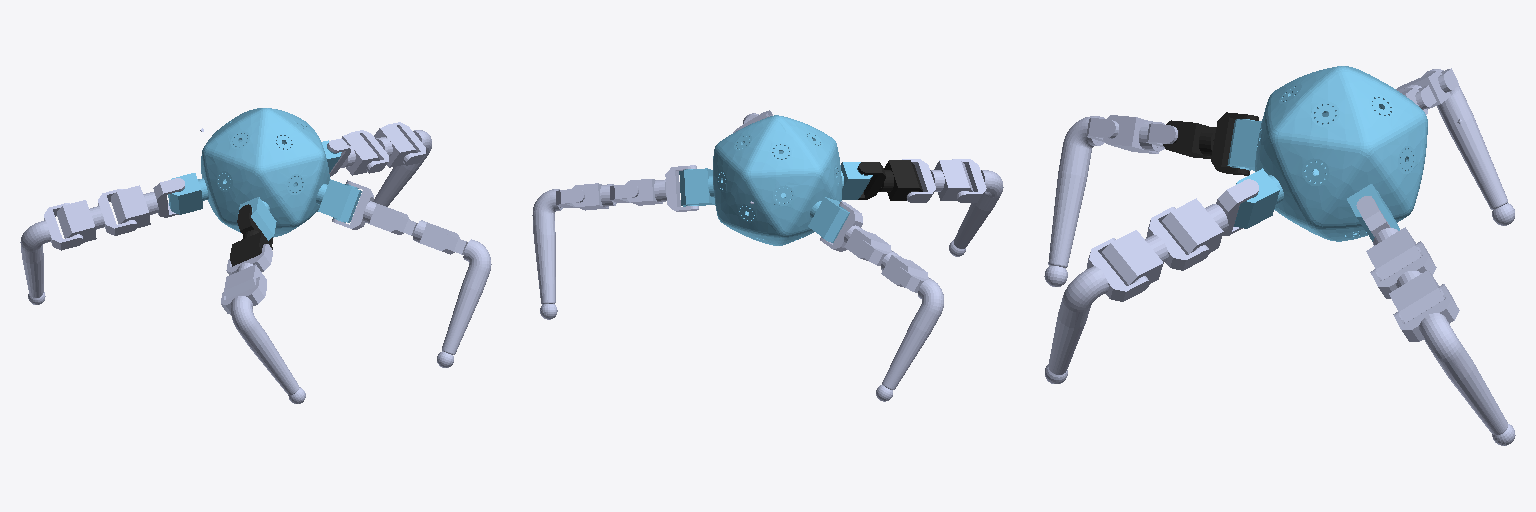
robot.urdf — V800_cam:
<?xml version="1.0" encoding="utf-8"?>
<!-- This URDF was automatically created by SolidWorks to URDF Exporter! Originally created by [author] ([email redacted]) 
     Commit Version: 1.6.0-1-g15f4949  Build Version: 1.6.7594.29634
     For more information, please see http://wiki.ros.org/sw_urdf_exporter -->
<robot
  name="V800_cam">
  <link
    name="body">
    <inertial>
      <origin
        xyz="-9.54880772594721E-07 0.0464116058279854 0.0121268540557259"
        rpy="0 0 0" />
      <mass
        value="1.03" />
      <inertia
        ixx="0.00246800158075418"
        ixy="1.75628213091201E-08"
        ixz="1.38332715719944E-08"
        iyy="0.00246847726958773"
        iyz="-2.52422596482019E-06"
        izz="0.00247970018962611" />
    </inertial>
    <visual>
      <origin
        xyz="0 0 0"
        rpy="0 0 0" />
      <geometry>
        <mesh
          filename="package://V800_cam/meshes/body.STL" />
      </geometry>
      <material
        name="">
        <color
          rgba="0.53 0.81 0.95 1" />
      </material>
    </visual>
    <collision>
      <origin
        xyz="0 0 0"
        rpy="0 0 0" />
      <geometry>
        <mesh
          filename="package://V800_cam/meshes/body.STL" />
      </geometry>
    </collision>
  </link>
  <link
    name="00">
    <inertial>
      <origin
        xyz="-3.63001309788835E-07 -3.63001309774957E-07 0.0577248764406495"
        rpy="0 0 0" />
      <mass
        value="0.085" />
      <inertia
        ixx="7.62606139414576E-05"
        ixy="1.36848222674851E-14"
        ixz="-6.41822721035026E-10"
        iyy="7.58096552667325E-05"
        iyz="-6.41822721058743E-10"
        izz="3.22965690401587E-05" />
    </inertial>
    <visual>
      <origin
        xyz="0 0 0"
        rpy="0 0 0" />
      <geometry>
        <mesh
          filename="package://V800_cam/meshes/00.STL" />
      </geometry>
      <material
        name="">
        <color
          rgba="0.2 0.2 0.2 1" />
      </material>
    </visual>
    <collision>
      <origin
        xyz="0 0 0"
        rpy="0 0 0" />
      <geometry>
        <mesh
          filename="package://V800_cam/meshes/00.STL" />
      </geometry>
    </collision>
  </link>
  <joint
    name="body_00"
    type="revolute">
    <origin
      xyz="-0.0747135099226025 -0.102834290944804 0.0313999218452649"
      rpy="1.93566015490837 1.01722196789785 -0.314159265358987" />
    <parent
      link="body" />
    <child
      link="00" />
    <axis
      xyz="1 0 0" />
    <limit
      lower="-4"
      upper="4"
      effort="2"
      velocity="0.2094396" />
  </joint>
  <link
    name="01">
    <inertial>
      <origin
        xyz="-1.45200523903044E-06 -1.45200523907207E-06 0.0577259654445788"
        rpy="0 0 0" />
      <mass
        value="0.085" />
      <inertia
        ixx="6.67941659320179E-05"
        ixy="2.18957247335804E-13"
        ixz="-2.79364977318897E-09"
        iyy="8.52661387999373E-05"
        iyz="-2.79364977317415E-09"
        izz="3.2296568629614E-05" />
    </inertial>
    <visual>
      <origin
        xyz="0 0 0"
        rpy="0 0 0" />
      <geometry>
        <mesh
          filename="package://V800_cam/meshes/01.STL" />
      </geometry>
      <material
        name="">
        <color
          rgba="0.792156862745098 0.819607843137255 0.933333333333333 1" />
      </material>
    </visual>
    <collision>
      <origin
        xyz="0 0 0"
        rpy="0 0 0" />
      <geometry>
        <mesh
          filename="package://V800_cam/meshes/01.STL" />
      </geometry>
    </collision>
  </link>
  <joint
    name="00_01"
    type="revolute">
    <origin
      xyz="0 0 0.0812000000000001"
      rpy="0 0 1.5707963267949" />
    <parent
      link="00" />
    <child
      link="01" />
    <axis
      xyz="1 0 0" />
    <limit
      lower="-4"
      upper="4"
      effort="2"
      velocity="0.2094396" />
  </joint>
  <link
    name="02">
    <inertial>
      <origin
        xyz="-4.16333634234434E-17 -0.0532160764699447 0.0531179899870654"
        rpy="0 0 0" />
      <mass
        value="0.07" />
      <inertia
        ixx="0.000416559633615451"
        ixy="6.26804380968182E-20"
        ixz="6.7762635780344E-20"
        iyy="5.44190175587168E-05"
        iyz="6.08030153794327E-05"
        izz="0.000394411456477928" />
    </inertial>
    <visual>
      <origin
        xyz="0 0 0"
        rpy="0 0 0" />
      <geometry>
        <mesh
          filename="package://V800_cam/meshes/02.STL" />
      </geometry>
      <material
        name="">
        <color
          rgba="0.792156862745098 0.819607843137255 0.933333333333333 1" />
      </material>
    </visual>
    <collision>
      <origin
        xyz="0 0 0"
        rpy="0 0 0" />
      <geometry>
        <mesh
          filename="package://V800_cam/meshes/02.STL" />
      </geometry>
    </collision>
  </link>
  <joint
    name="01_02"
    type="revolute">
    <origin
      xyz="0 0 0.0811999999999999"
      rpy="0 0 0" />
    <parent
      link="01" />
    <child
      link="02" />
    <axis
      xyz="1 0 0" />
    <limit
      lower="-4"
      upper="4"
      effort="2"
      velocity="0.2094396" />
  </joint>
  <link
    name="10">
    <inertial>
      <origin
        xyz="-3.63001309802713E-07 -3.63001309806182E-07 0.0577248764406495"
        rpy="0 0 0" />
      <mass
        value="0.085" />
      <inertia
        ixx="7.62606139414575E-05"
        ixy="1.36848286202322E-14"
        ixz="-6.41822720990557E-10"
        iyy="7.58096552667324E-05"
        iyz="-6.41822721030791E-10"
        izz="3.22965690401588E-05" />
    </inertial>
    <visual>
      <origin
        xyz="0 0 0"
        rpy="0 0 0" />
      <geometry>
        <mesh
          filename="package://V800_cam/meshes/10.STL" />
      </geometry>
      <material
        name="">
        <color
          rgba="0.792156862745098 0.819607843137255 0.933333333333333 1" />
      </material>
    </visual>
    <collision>
      <origin
        xyz="0 0 0"
        rpy="0 0 0" />
      <geometry>
        <mesh
          filename="package://V800_cam/meshes/10.STL" />
      </geometry>
    </collision>
  </link>
  <joint
    name="body_10"
    type="revolute">
    <origin
      xyz="-0.120888987481397 0.0392792161591044 0.0313999218452654"
      rpy="-1.93566015490837 1.01722196789785 0.942477796076945" />
    <parent
      link="body" />
    <child
      link="10" />
    <axis
      xyz="1 0 0" />
    <limit
      lower="-4"
      upper="4"
      effort="2"
      velocity="0.2094396" />
  </joint>
  <link
    name="11">
    <inertial>
      <origin
        xyz="-1.45200523905126E-06 -1.45200523912065E-06 0.0577259654445788"
        rpy="0 0 0" />
      <mass
        value="0.085" />
      <inertia
        ixx="6.67941659320179E-05"
        ixy="2.18957271476243E-13"
        ixz="-2.7936497731822E-09"
        iyy="8.52661387999373E-05"
        iyz="-2.79364977314705E-09"
        izz="3.2296568629614E-05" />
    </inertial>
    <visual>
      <origin
        xyz="0 0 0"
        rpy="0 0 0" />
      <geometry>
        <mesh
          filename="package://V800_cam/meshes/11.STL" />
      </geometry>
      <material
        name="">
        <color
          rgba="0.792156862745098 0.819607843137255 0.933333333333333 1" />
      </material>
    </visual>
    <collision>
      <origin
        xyz="0 0 0"
        rpy="0 0 0" />
      <geometry>
        <mesh
          filename="package://V800_cam/meshes/11.STL" />
      </geometry>
    </collision>
  </link>
  <joint
    name="10_11"
    type="revolute">
    <origin
      xyz="0 0 0.0812"
      rpy="0 0 1.5707963267949" />
    <parent
      link="10" />
    <child
      link="11" />
    <axis
      xyz="1 0 0 " />
    <limit
      lower="-4"
      upper="4"
      effort="2"
      velocity="0.2094396" />
  </joint>
  <link
    name="12">
    <inertial>
      <origin
        xyz="1.38777878078145E-17 -0.0532160764699449 0.0531179899870651"
        rpy="0 0 0" />
      <mass
        value="0.07" />
      <inertia
        ixx="0.000416559633615451"
        ixy="-1.18584612615602E-20"
        ixz="2.03287907341032E-20"
        iyy="5.44190175587165E-05"
        iyz="6.08030153794317E-05"
        izz="0.000394411456477929" />
    </inertial>
    <visual>
      <origin
        xyz="0 0 0"
        rpy="0 0 0" />
      <geometry>
        <mesh
          filename="package://V800_cam/meshes/12.STL" />
      </geometry>
      <material
        name="">
        <color
          rgba="0.792156862745098 0.819607843137255 0.933333333333333 1" />
      </material>
    </visual>
    <collision>
      <origin
        xyz="0 0 0"
        rpy="0 0 0" />
      <geometry>
        <mesh
          filename="package://V800_cam/meshes/12.STL" />
      </geometry>
    </collision>
  </link>
  <joint
    name="11_12"
    type="revolute">
    <origin
      xyz="0 0 0.0811999999999999"
      rpy="0 0 0" />
    <parent
      link="11" />
    <child
      link="12" />
    <axis
      xyz="1 0 0" />
    <limit
      lower="-4"
      upper="4"
      effort="2"
      velocity="0.2094396" />
  </joint>
  <link
    name="20">
    <inertial>
      <origin
        xyz="-3.63001309788835E-07 -3.63001309740263E-07 0.0577248764406495"
        rpy="0 0 0" />
      <mass
        value="0.085" />
      <inertia
        ixx="7.62606139414577E-05"
        ixy="1.3684816761771E-14"
        ixz="-6.4182272100538E-10"
        iyy="7.58096552667326E-05"
        iyz="-6.41822721070601E-10"
        izz="3.22965690401588E-05" />
    </inertial>
    <visual>
      <origin
        xyz="0 0 0"
        rpy="0 0 0" />
      <geometry>
        <mesh
          filename="package://V800_cam/meshes/20.STL" />
      </geometry>
      <material
        name="">
        <color
          rgba="0.792156862745098 0.819607843137255 0.933333333333333 1" />
      </material>
    </visual>
    <collision>
      <origin
        xyz="0 0 0"
        rpy="0 0 0" />
      <geometry>
        <mesh
          filename="package://V800_cam/meshes/20.STL" />
      </geometry>
    </collision>
  </link>
  <joint
    name="body_20"
    type="revolute">
    <origin
      xyz="0.120888987481397 0.0392792161591044 0.0313999218452653"
      rpy="1.93566015490837 1.01722196789785 2.19911485751285" />
    <parent
      link="body" />
    <child
      link="20" />
    <axis
      xyz="1 0 0" />
    <limit
      lower="-4"
      upper="4"
      effort="2"
      velocity="0.2094396" />
  </joint>
  <link
    name="21">
    <inertial>
      <origin
        xyz="-1.45200523913105E-06 -1.45200523910677E-06 0.0577259654445788"
        rpy="0 0 0" />
      <mass
        value="0.085" />
      <inertia
        ixx="6.67941659320179E-05"
        ixy="2.18957257923716E-13"
        ixz="-2.79364977312121E-09"
        iyy="8.52661387999373E-05"
        iyz="-2.79364977315043E-09"
        izz="3.2296568629614E-05" />
    </inertial>
    <visual>
      <origin
        xyz="0 0 0"
        rpy="0 0 0" />
      <geometry>
        <mesh
          filename="package://V800_cam/meshes/21.STL" />
      </geometry>
      <material
        name="">
        <color
          rgba="0.792156862745098 0.819607843137255 0.933333333333333 1" />
      </material>
    </visual>
    <collision>
      <origin
        xyz="0 0 0"
        rpy="0 0 0" />
      <geometry>
        <mesh
          filename="package://V800_cam/meshes/21.STL" />
      </geometry>
    </collision>
  </link>
  <joint
    name="20_21"
    type="revolute">
    <origin
      xyz="0 0 0.0812"
      rpy="0 0 1.5707963267949" />
    <parent
      link="20" />
    <child
      link="21" />
    <axis
      xyz="1 0 0" />
    <limit
      lower="-4"
      upper="4"
      effort="2"
      velocity="0.2094396" />
  </joint>
  <link
    name="22">
    <inertial>
      <origin
        xyz="1.11022302462516E-16 -0.0532160764699448 0.0531179899870652"
        rpy="0 0 0" />
      <mass
        value="0.07" />
      <inertia
        ixx="0.000416559633615451"
        ixy="1.43148568085977E-19"
        ixz="0"
        iyy="5.44190175587166E-05"
        iyz="6.08030153794322E-05"
        izz="0.000394411456477928" />
    </inertial>
    <visual>
      <origin
        xyz="0 0 0"
        rpy="0 0 0" />
      <geometry>
        <mesh
          filename="package://V800_cam/meshes/22.STL" />
      </geometry>
      <material
        name="">
        <color
          rgba="0.792156862745098 0.819607843137255 0.933333333333333 1" />
      </material>
    </visual>
    <collision>
      <origin
        xyz="0 0 0"
        rpy="0 0 0" />
      <geometry>
        <mesh
          filename="package://V800_cam/meshes/22.STL" />
      </geometry>
    </collision>
  </link>
  <joint
    name="21_22"
    type="revolute">
    <origin
      xyz="0 0 0.0812000000000002"
      rpy="0 0 0" />
    <parent
      link="21" />
    <child
      link="22" />
    <axis
      xyz="1 0 0" />
    <limit
      lower="-4"
      upper="4"
      effort="2"
      velocity="0.2094396" />
  </joint>
  <link
    name="30">
    <inertial>
      <origin
        xyz="-3.63001309781896E-07 -3.63001309740263E-07 0.0577248764406495"
        rpy="0 0 0" />
      <mass
        value="0.085" />
      <inertia
        ixx="7.62606139414576E-05"
        ixy="1.36848362435288E-14"
        ixz="-6.4182272102105E-10"
        iyy="7.58096552667324E-05"
        iyz="-6.41822721092624E-10"
        izz="3.22965690401588E-05" />
    </inertial>
    <visual>
      <origin
        xyz="0 0 0"
        rpy="0 0 0" />
      <geometry>
        <mesh
          filename="package://V800_cam/meshes/30.STL" />
      </geometry>
      <material
        name="">
        <color
          rgba="0.792156862745098 0.819607843137255 0.933333333333333 1" />
      </material>
    </visual>
    <collision>
      <origin
        xyz="0 0 0"
        rpy="0 0 0" />
      <geometry>
        <mesh
          filename="package://V800_cam/meshes/30.STL" />
      </geometry>
    </collision>
  </link>
  <joint
    name="body_30"
    type="revolute">
    <origin
      xyz="0.0747135099226025 -0.102834290944804 0.031399921845265"
      rpy="-1.93566015490838 1.01722196789785 -2.82743338823081" />
    <parent
      link="body" />
    <child
      link="30" />
    <axis
      xyz="1 0 0" />
    <limit
      lower="-4"
      upper="4"
      effort="2"
      velocity="0.2094396" />
  </joint>
  <link
    name="31">
    <inertial>
      <origin
        xyz="-1.45200523903044E-06 -1.45200523907207E-06 0.0577259654445787"
        rpy="0 0 0" />
      <mass
        value="0.085" />
      <inertia
        ixx="6.67941659320179E-05"
        ixy="2.18957264276463E-13"
        ixz="-2.79364977319152E-09"
        iyy="8.52661387999373E-05"
        iyz="-2.7936497731877E-09"
        izz="3.22965686296139E-05" />
    </inertial>
    <visual>
      <origin
        xyz="0 0 0"
        rpy="0 0 0" />
      <geometry>
        <mesh
          filename="package://V800_cam/meshes/31.STL" />
      </geometry>
      <material
        name="">
        <color
          rgba="0.792156862745098 0.819607843137255 0.933333333333333 1" />
      </material>
    </visual>
    <collision>
      <origin
        xyz="0 0 0"
        rpy="0 0 0" />
      <geometry>
        <mesh
          filename="package://V800_cam/meshes/31.STL" />
      </geometry>
    </collision>
  </link>
  <joint
    name="30_31"
    type="revolute">
    <origin
      xyz="0 0 0.0812"
      rpy="0 0 1.5707963267949" />
    <parent
      link="30" />
    <child
      link="31" />
    <axis
      xyz="1 0 0" />
    <limit
      lower="-4"
      upper="4"
      effort="2"
      velocity="0.2094396" />
  </joint>
  <link
    name="32">
    <inertial>
      <origin
        xyz="-4.16333634234434E-17 -0.0532160764699449 0.0531179899870652"
        rpy="0 0 0" />
      <mass
        value="0.07" />
      <inertia
        ixx="0.000416559633615451"
        ixy="-2.99849663328022E-19"
        ixz="4.06575814682064E-20"
        iyy="5.44190175587166E-05"
        iyz="6.0803015379432E-05"
        izz="0.000394411456477929" />
    </inertial>
    <visual>
      <origin
        xyz="0 0 0"
        rpy="0 0 0" />
      <geometry>
        <mesh
          filename="package://V800_cam/meshes/32.STL" />
      </geometry>
      <material
        name="">
        <color
          rgba="0.792156862745098 0.819607843137255 0.933333333333333 1" />
      </material>
    </visual>
    <collision>
      <origin
        xyz="0 0 0"
        rpy="0 0 0" />
      <geometry>
        <mesh
          filename="package://V800_cam/meshes/32.STL" />
      </geometry>
    </collision>
  </link>
  <joint
    name="31_32"
    type="revolute">
    <origin
      xyz="0 0 0.0812"
      rpy="0 0 0" />
    <parent
      link="31" />
    <child
      link="32" />
    <axis
      xyz="1 0 0" />
    <limit
      lower="-4"
      upper="4"
      effort="2"
      velocity="0.2094396" />
  </joint>
  <link
    name="camera">
    <inertial>
      <origin
        xyz="-6.93889390390723E-18 -2.77555756156289E-17 0.00100000000000001"
        rpy="0 0 0" />
      <mass
        value="0.05" />
      <inertia
        ixx="7.44492009053829E-11"
        ixy="3.39483796978698E-28"
        ixz="-4.06822130565541E-25"
        iyy="7.44492009053829E-11"
        iyz="3.87740912134232E-26"
        izz="1.22718463030851E-10" />
    </inertial>
    <visual>
      <origin
        xyz="0 0 0"
        rpy="0 0 0" />
      <geometry>
        <mesh
          filename="package://V800_cam/meshes/camera.STL" />
      </geometry>
      <material
        name="">
        <color
          rgba="0.792156862745098 0.819607843137255 0.933333333333333 1" />
      </material>
    </visual>
    <collision>
      <origin
        xyz="0 0 0"
        rpy="0 0 0" />
      <geometry>
        <mesh
          filename="package://V800_cam/meshes/camera.STL" />
      </geometry>
    </collision>
  </link>
  <joint
    name="body_cam"
    type="fixed">
    <origin
      xyz="-0.0315000177857023 0.12846719592633 0.0788583994340734"
      rpy="0.858487020413039 0 0" />
    <parent
      link="body" />
    <child
      link="camera" />
    <axis
      xyz="0 0 0" />
  </joint>
</robot>

--- Render facts (derived) ---
The picture shows the robot from 3 angles, left to right: view 1: azimuth 30°, elevation 25°; view 2: azimuth 150°, elevation 25°; view 3: azimuth 270°, elevation 25°; orthographic projection.
Robot: V800_cam — 14 links, 13 joints (12 revolute, 1 fixed); root link body; default pose: every joint at zero.
Links seen in each view (by area): view 1: body, 32, 02, 12, 11, 10, 22, 21, 20, 01, 00, 30 (+1 smaller); view 2: body, 12, 22, 02, 01, 00, 20, 10, 21, 11; view 3: body, 22, 02, 32, 12, 31, 30, 21, 00, 20, 01, 11.
Link boxes in pixels (<box>): body: <box>168,108,361,240</box>; 32: <box>434,232,491,367</box>; 02: <box>221,276,305,403</box>; 12: <box>20,203,83,304</box>; 11: <box>57,189,137,242</box>; 10: <box>111,178,184,227</box>; 22: <box>373,122,431,206</box>; 21: <box>347,125,416,173</box>; 20: <box>327,132,379,176</box>; 01: <box>224,244,272,298</box>; 00: <box>230,204,272,266</box>; 30: <box>332,180,409,234</box>; body: <box>679,115,872,245</box>; 12: <box>876,267,943,401</box>; 22: <box>532,189,584,319</box>; 02: <box>949,159,1003,256</box>; 01: <box>902,159,973,202</box>; 00: <box>858,160,922,200</box>; 20: <box>626,165,698,211</box>; 10: <box>820,201,891,260</box>; 21: <box>572,183,638,210</box>; 11: <box>855,240,928,287</box>; body: <box>1227,66,1427,241</box>; 22: <box>1393,284,1515,445</box>; 02: <box>1044,116,1117,286</box>; 32: <box>1045,238,1149,383</box>; 12: <box>1422,68,1514,225</box>; 31: <box>1101,207,1209,285</box>; 30: <box>1161,179,1258,254</box>; 21: <box>1370,241,1445,323</box>; 00: <box>1163,112,1258,175</box>; 20: <box>1356,196,1422,280</box>; 01: <box>1103,115,1177,153</box>; 11: <box>1396,70,1450,109</box>.
Bounding box of the posed robot: 0.681 × 0.507 × 0.3173 m (x, y, z).
14 mesh visuals loaded from 14 distinct referenced files (14 binary STL).